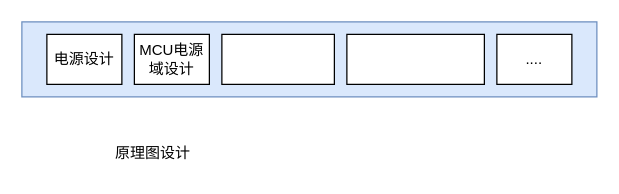
This 619x194 diagram has some shape labels left out. Each missing label, with the centre of its shape:
"MCU&Wifi&BLE 通信&电源设计" goes at pixel 277 58.
"功放电路 &双MIC&Camera&..." goes at pixel 415 58.
